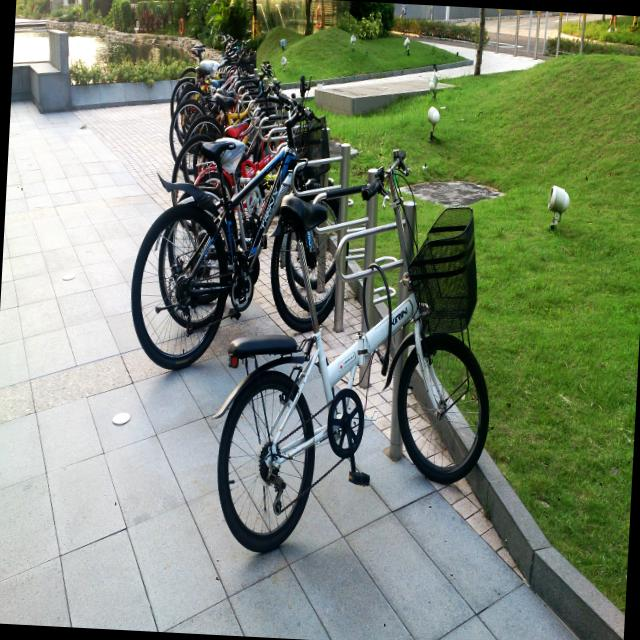bike: (203, 140, 504, 566), (126, 85, 357, 379)
